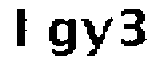3: (118, 6, 151, 49)
g: (46, 14, 78, 59)
l: (11, 5, 34, 50)
y: (81, 15, 114, 59)
